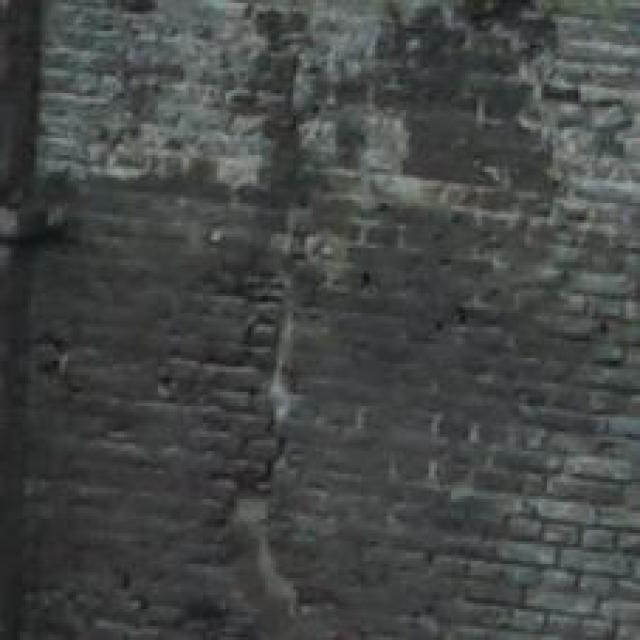Crack: (206, 122, 364, 612)
